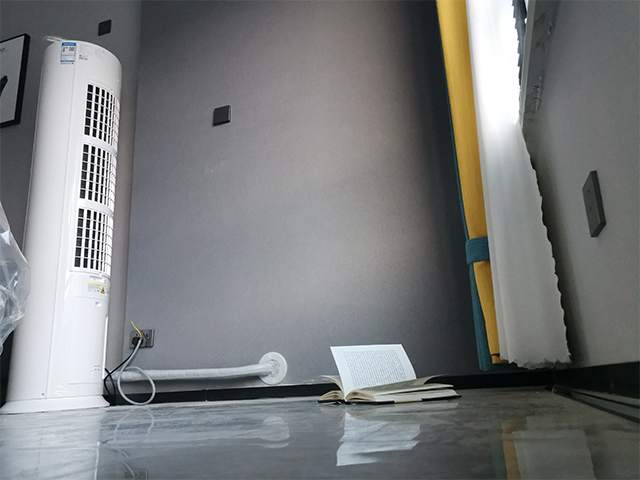book: (314, 341, 462, 407)
curtain: (435, 1, 583, 377)
wire: (103, 319, 157, 406)
